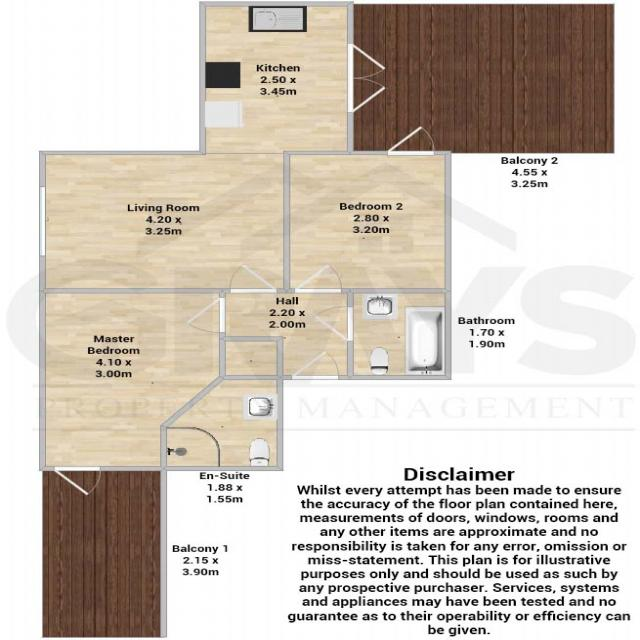DOOR: (289, 348, 341, 380), (183, 296, 226, 334), (293, 262, 344, 294), (310, 305, 354, 342), (385, 124, 437, 155), (53, 466, 102, 497), (228, 263, 278, 293)
DOUBLE DOOR: (346, 43, 389, 113)
ROOM: (39, 288, 226, 497), (39, 150, 290, 294), (199, 1, 388, 155), (283, 124, 452, 294)
WINDOW: (39, 186, 47, 257)
